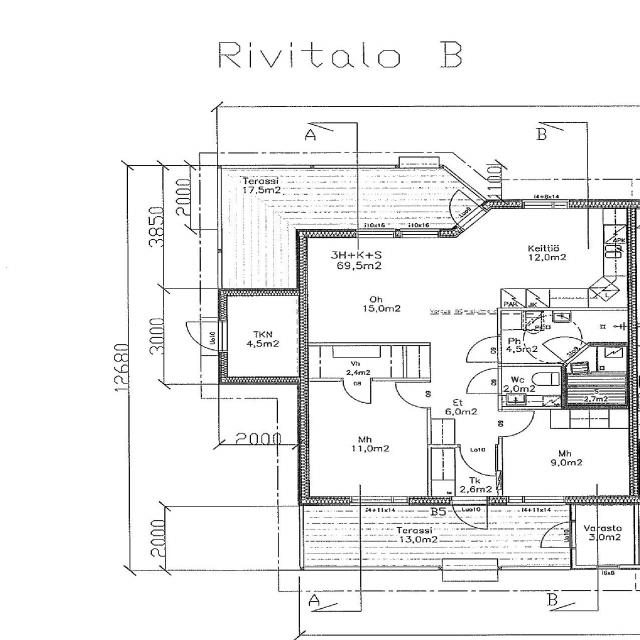door: (435, 189, 487, 230), (543, 326, 589, 364), (452, 496, 488, 535), (182, 322, 228, 351), (460, 444, 495, 476), (538, 522, 576, 548), (466, 368, 502, 394), (498, 411, 534, 436), (468, 336, 502, 362), (396, 382, 430, 408), (343, 378, 371, 403)
